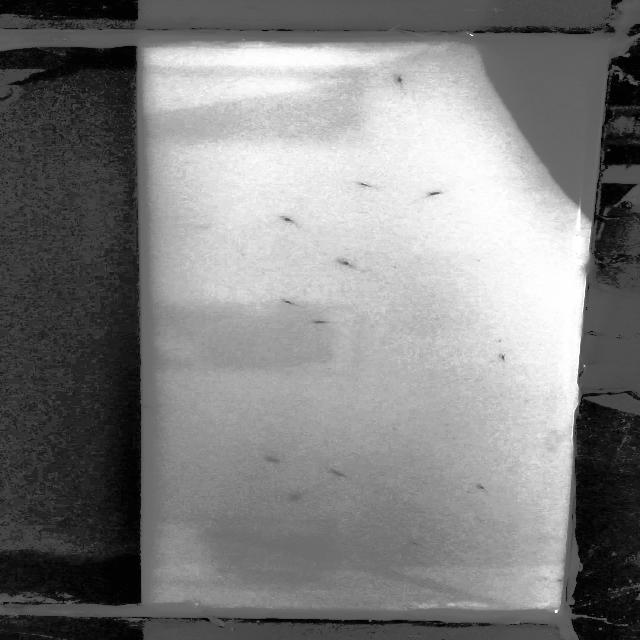shrimp: (309, 251, 373, 274), (415, 183, 456, 204), (320, 464, 354, 484), (250, 452, 292, 468), (390, 534, 429, 550), (386, 68, 410, 92), (348, 176, 379, 194), (269, 209, 299, 227), (466, 482, 502, 496), (264, 297, 304, 309), (305, 315, 339, 329), (281, 491, 308, 506), (496, 348, 517, 367)
